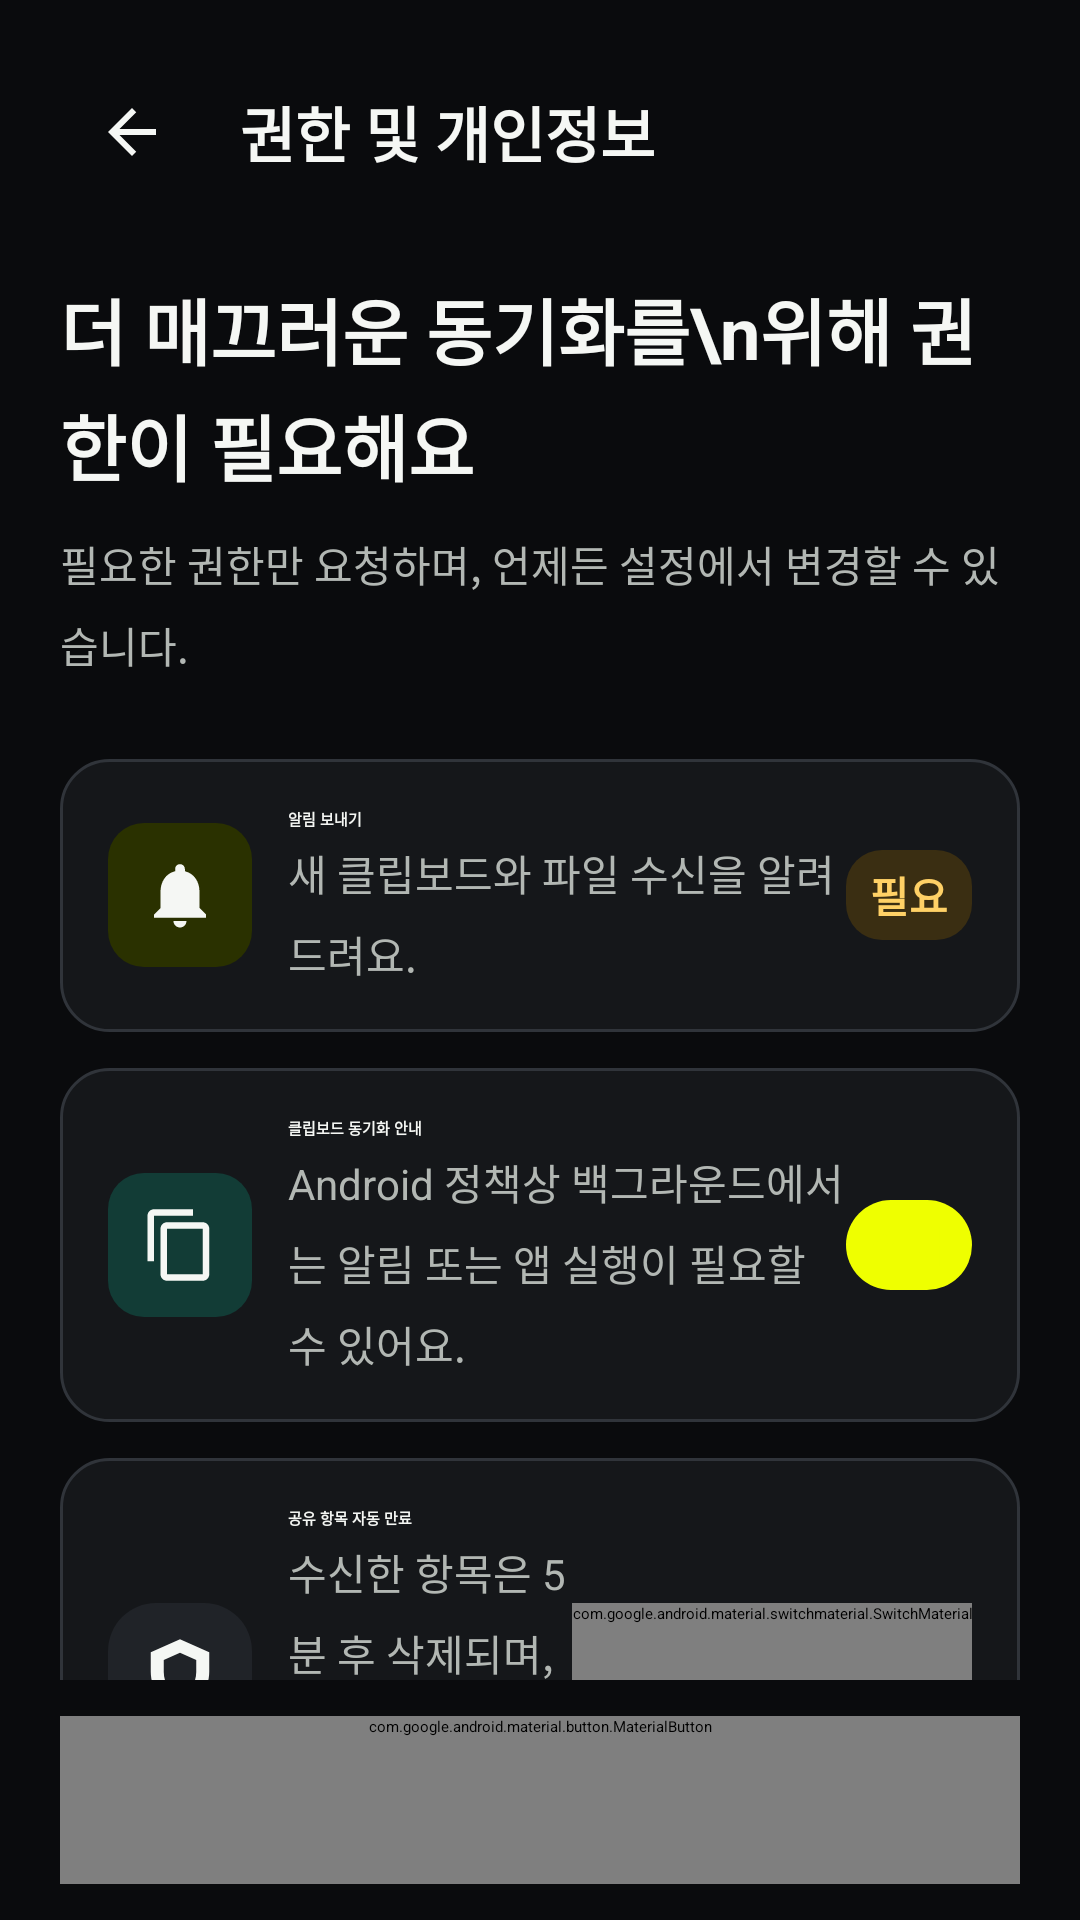

Where to tap for icons on this 1080 x 1920 app screen, as [x,y]:
뒤로가기: [132,132]
알림 권한: [180,895]
